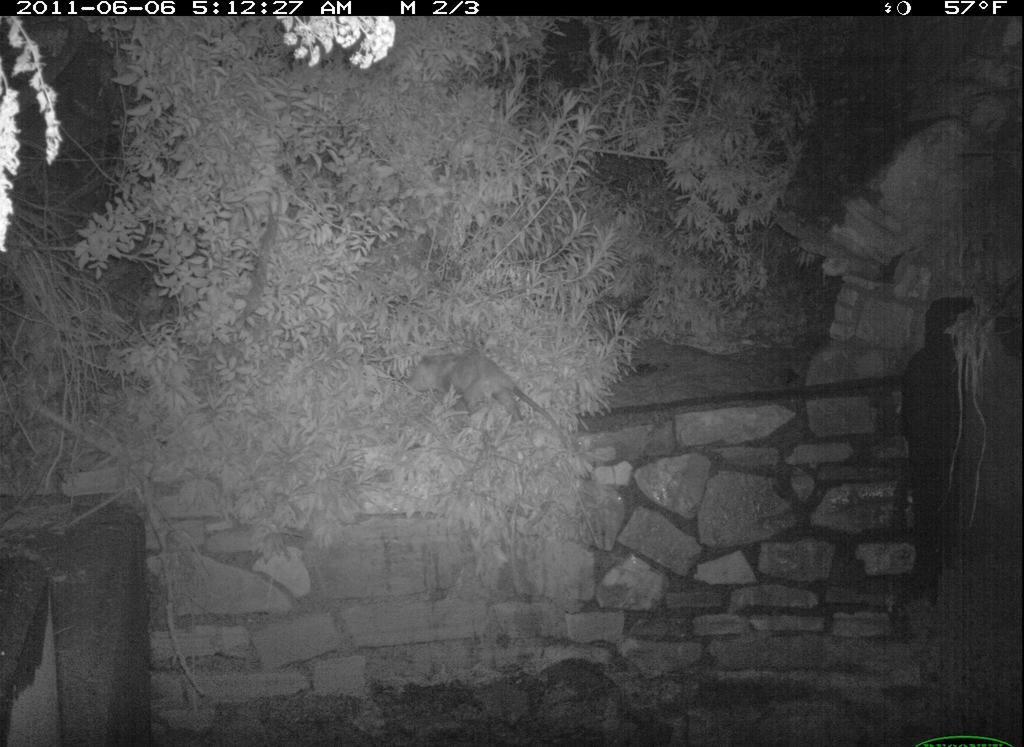opossum: (387, 321, 602, 466)
